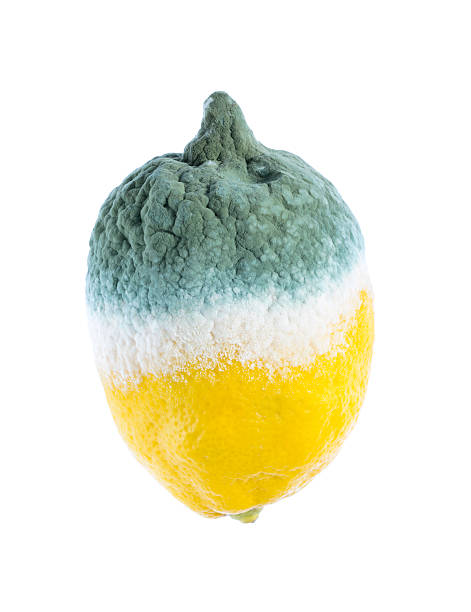lemon: (87, 89, 376, 526)
rotten: (91, 92, 372, 386)
